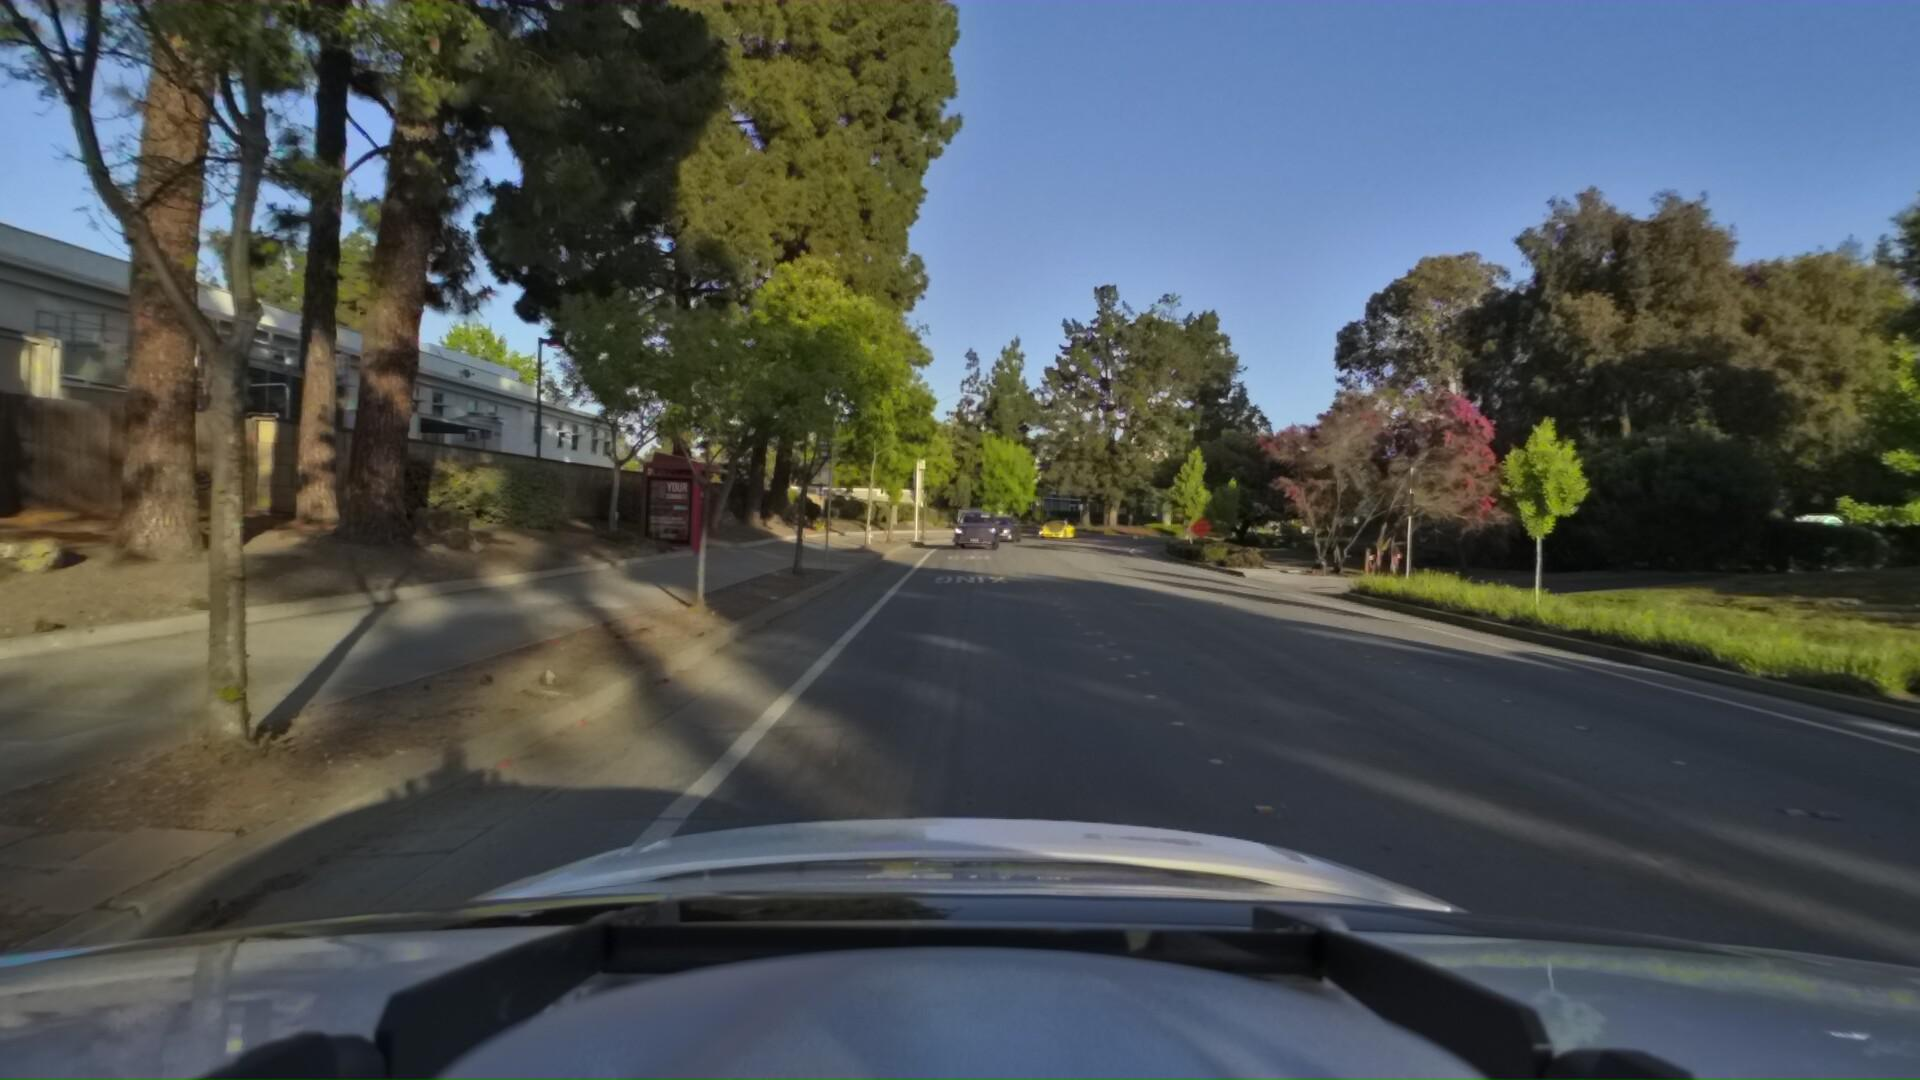car: (945, 498, 1001, 546), (975, 502, 1023, 538), (1029, 513, 1076, 535)
